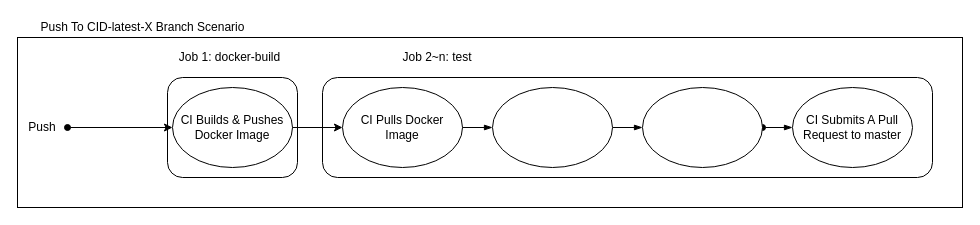
Some shapes in this 980 by 225 pixel diagram are drawn without their labels. The shapes that lost their labels are listed below. From the top down, each one's centre as x and y in pixels, then its label:
point (552, 127): CI Builds PDK
point (702, 127): CI Runs Fastest Test Set
